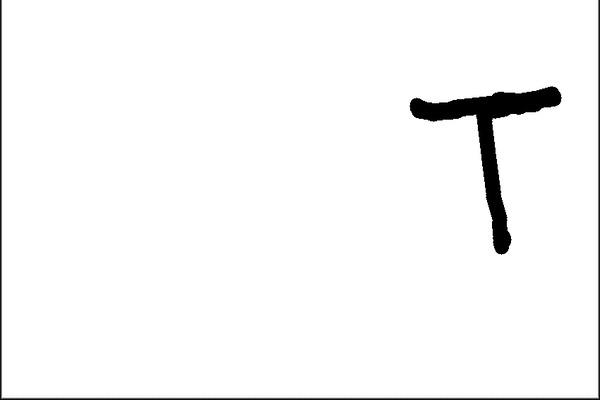T: (405, 78, 561, 264)
